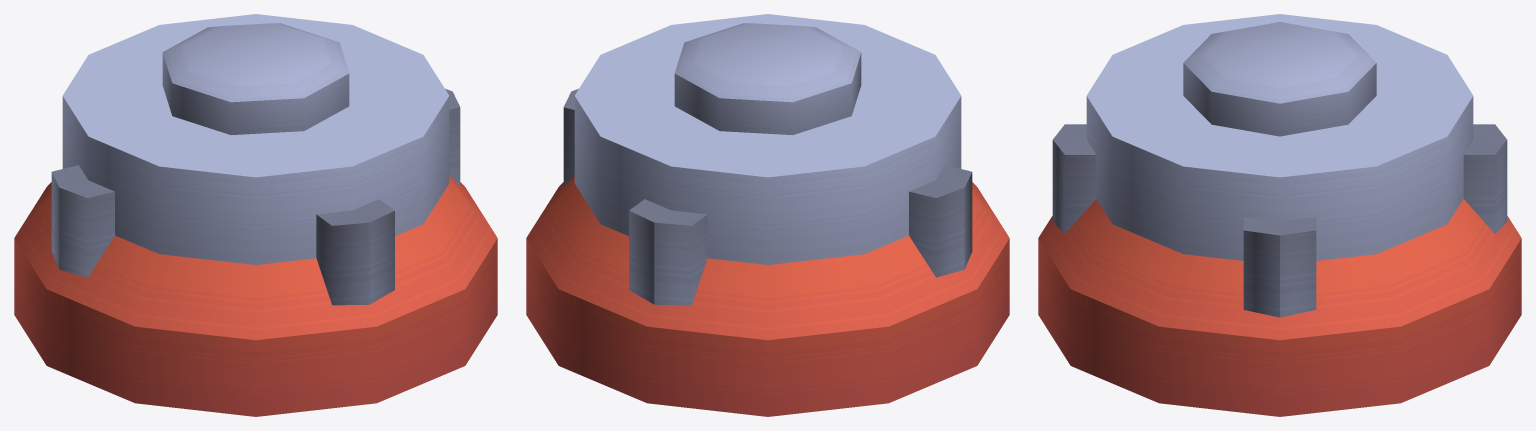
The model's file is tower-defense-kit--tower-round-bottom-a.glb.
3 views of the same model, side by side, from view 1: azimuth 30°, elevation 25°; view 2: azimuth 150°, elevation 25°; view 3: azimuth 270°, elevation 25° (orthographic).
Visible parts, largest first — view 1: tower-round-bottom-a; view 2: tower-round-bottom-a; view 3: tower-round-bottom-a.
Boxes of the visible parts, <box> form: tower-round-bottom-a: <box>14,14,497,416</box>; tower-round-bottom-a: <box>526,14,1009,416</box>; tower-round-bottom-a: <box>1038,14,1521,416</box>.
Size of the model in its own units: 1 by 0.6 by 1.
Materials: 1 (1 with a texture image).
